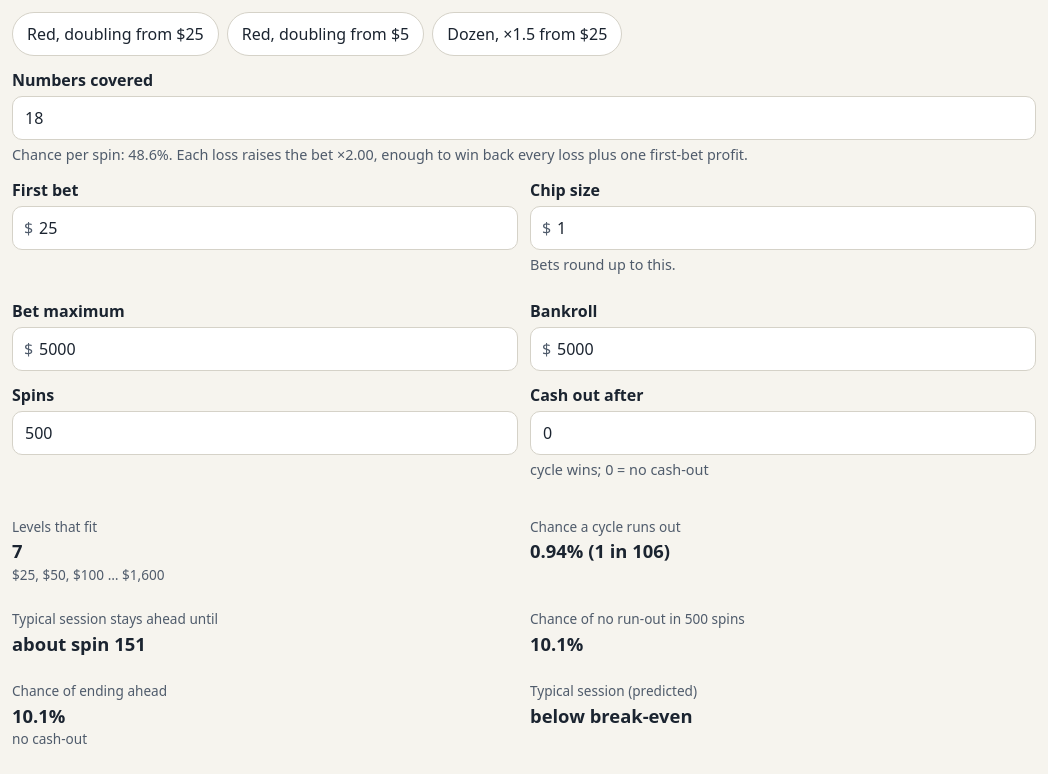
Scenario: LadderCalculator › the dozen preset gives 11 levels
Click the button "Dozen, ×1.5 from $25" at [527, 34], box [432, 12, 622, 56]
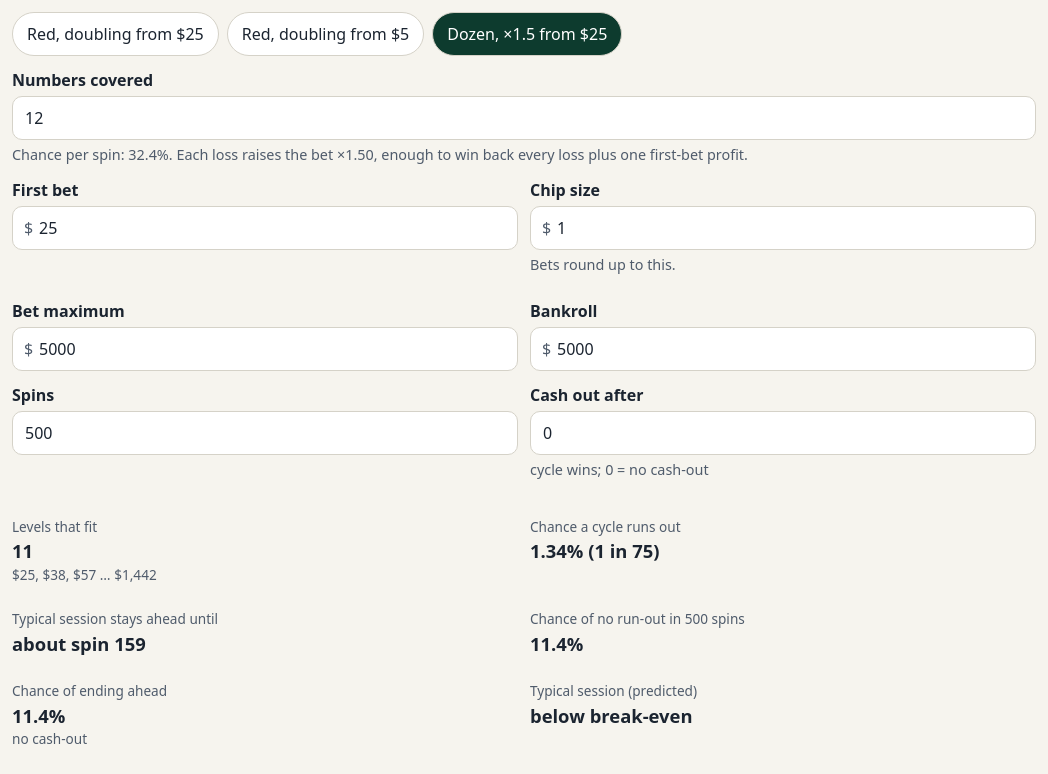
Expected: the text with class "stat-value" reads "11", [12, 538, 33, 563]
